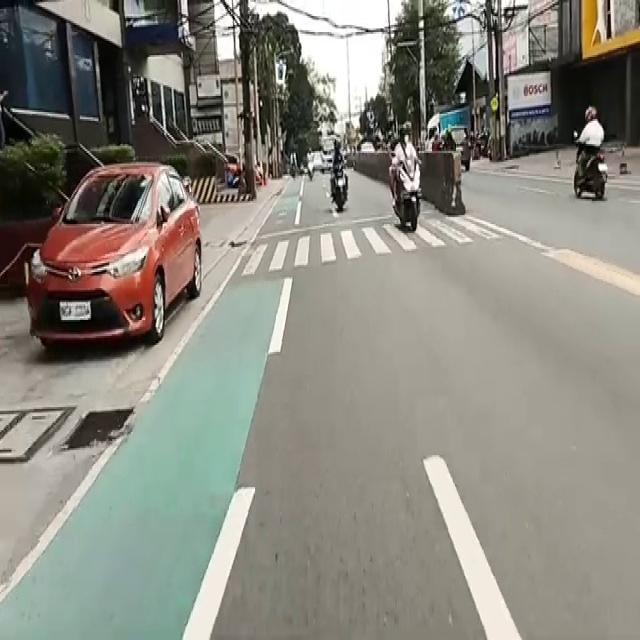car: (34, 153, 220, 329)
motorcycle: (568, 108, 610, 210), (388, 128, 422, 239), (326, 132, 354, 224)
